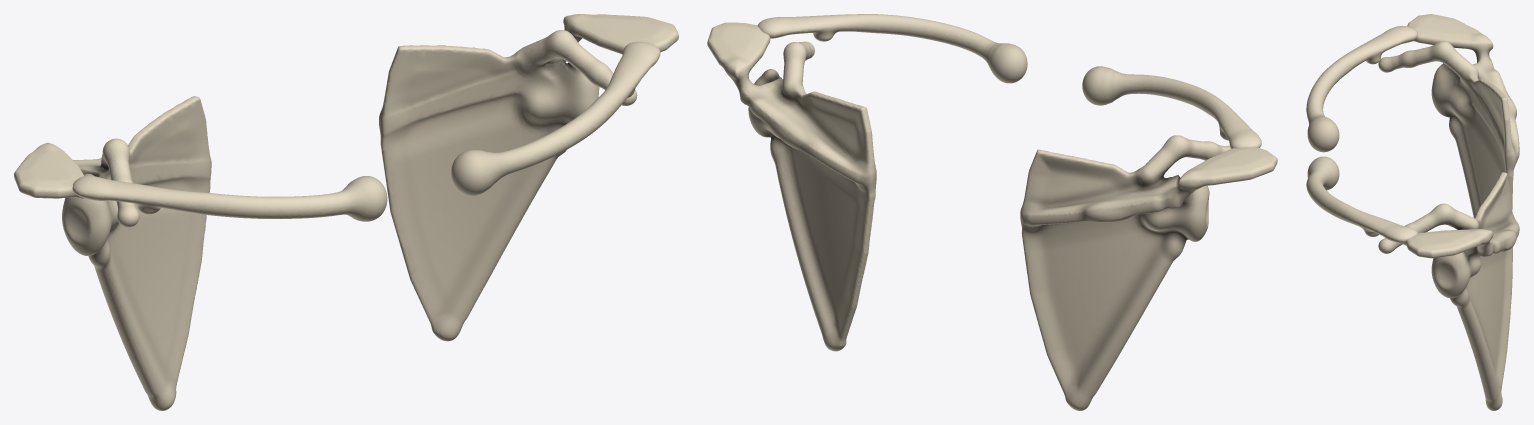
Rendered from esqueleto-hombro.glb.
3 renders of one model, left to right at view 1: azimuth 30°, elevation 25°; view 2: azimuth 150°, elevation 25°; view 3: azimuth 270°, elevation 25°, orthographic. The views are drawn at different scales.
Parts seen in each view (by area): view 1: scapula_L_infraspinous_fossa, scapula_R_infraspinous_fossa, clavicle_R, scapula_L_supraspinous_fossa, clavicle_L, scapula_R_supraspinous_fossa, scapula_L_acromion, scapula_L_glenoid, scapula_R_acromion, scapula_L_coracoid, scapula_R_glenoid, scapula_R_coracoid (+2 smaller); view 2: scapula_R_infraspinous_fossa, scapula_L_infraspinous_fossa, clavicle_L, scapula_L_spine, clavicle_R, scapula_R_supraspinous_fossa, scapula_R_spine, scapula_L_supraspinous_fossa, scapula_R_acromion, scapula_L_acromion, scapula_R_glenoid, scapula_R_coracoid (+2 smaller); view 3: scapula_L_infraspinous_fossa, scapula_R_infraspinous_fossa, clavicle_R, clavicle_L, scapula_R_acromion, scapula_L_acromion, scapula_R_supraspinous_fossa, scapula_R_coracoid, scapula_L_glenoid, scapula_L_coracoid, scapula_R_glenoid, scapula_L_supraspinous_fossa (+2 smaller).
Part boxes in pixels (x1=…): scapula_L_infraspinous_fossa: x1=379, y1=74, x2=566, y2=341; scapula_R_infraspinous_fossa: x1=88, y1=168, x2=211, y2=410; clavicle_R: x1=72, y1=175, x2=387, y2=221; scapula_L_supraspinous_fossa: x1=380, y1=45, x2=549, y2=127; clavicle_L: x1=451, y1=41, x2=660, y2=195; scapula_R_supraspinous_fossa: x1=109, y1=96, x2=211, y2=179; scapula_L_acromion: x1=563, y1=14, x2=678, y2=54; scapula_L_glenoid: x1=519, y1=62, x2=599, y2=125; scapula_R_acromion: x1=14, y1=142, x2=84, y2=198; scapula_L_coracoid: x1=516, y1=30, x2=637, y2=105; scapula_R_glenoid: x1=62, y1=173, x2=118, y2=255; scapula_R_coracoid: x1=101, y1=138, x2=139, y2=227; scapula_R_infraspinous_fossa: x1=1021, y1=214, x2=1186, y2=410; scapula_L_infraspinous_fossa: x1=770, y1=135, x2=876, y2=351; clavicle_L: x1=757, y1=14, x2=1027, y2=83; scapula_L_spine: x1=728, y1=73, x2=875, y2=189; clavicle_R: x1=1082, y1=66, x2=1261, y2=148; scapula_R_supraspinous_fossa: x1=1021, y1=149, x2=1140, y2=208; scapula_R_spine: x1=1020, y1=174, x2=1199, y2=230; scapula_L_supraspinous_fossa: x1=792, y1=86, x2=876, y2=179; scapula_R_acromion: x1=1178, y1=146, x2=1277, y2=188; scapula_L_acromion: x1=707, y1=22, x2=770, y2=79; scapula_R_glenoid: x1=1140, y1=185, x2=1209, y2=241; scapula_R_coracoid: x1=1137, y1=135, x2=1230, y2=186; scapula_L_infraspinous_fossa: x1=1450, y1=247, x2=1512, y2=410; scapula_R_infraspinous_fossa: x1=1449, y1=81, x2=1514, y2=218; clavicle_R: x1=1306, y1=25, x2=1417, y2=152; clavicle_L: x1=1306, y1=156, x2=1417, y2=243; scapula_R_acromion: x1=1407, y1=14, x2=1493, y2=51; scapula_L_acromion: x1=1403, y1=229, x2=1493, y2=258; scapula_R_supraspinous_fossa: x1=1458, y1=74, x2=1514, y2=162; scapula_R_coracoid: x1=1378, y1=41, x2=1478, y2=83; scapula_L_glenoid: x1=1431, y1=251, x2=1481, y2=298; scapula_L_coracoid: x1=1378, y1=203, x2=1478, y2=253; scapula_R_glenoid: x1=1431, y1=63, x2=1469, y2=120; scapula_L_supraspinous_fossa: x1=1475, y1=172, x2=1513, y2=229.
Bounding box in the file's own units: 0.3791 × 0.1737 × 0.1429.
